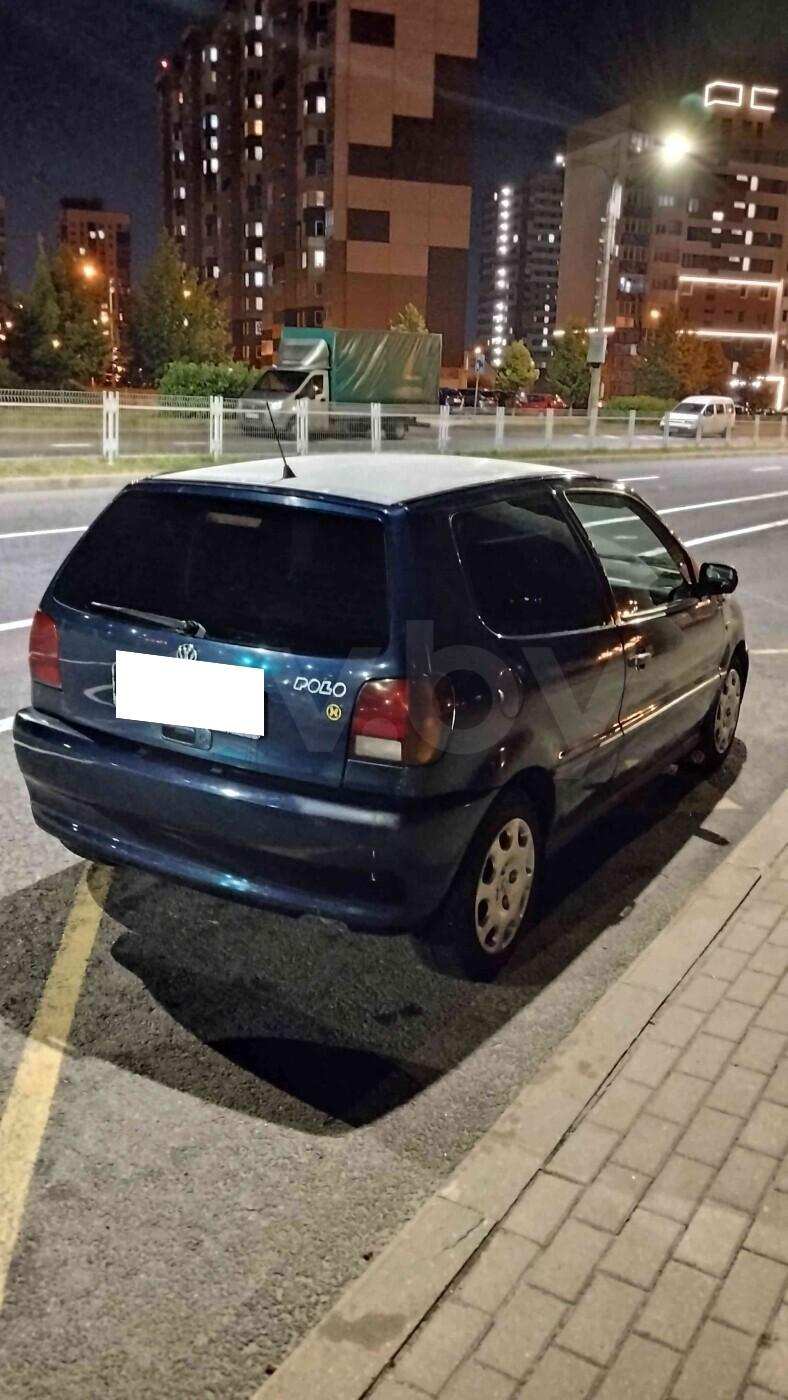Polo_1994-2002: (0, 447, 770, 988)
